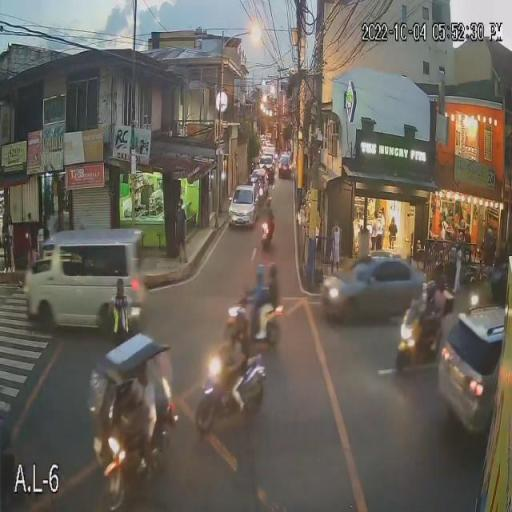helmet: (226, 306, 250, 334), (422, 279, 438, 300), (267, 261, 279, 278), (255, 263, 265, 277), (265, 196, 273, 207)
motorcycle: (192, 356, 267, 436), (252, 293, 285, 338), (261, 220, 275, 249)
rider: (395, 306, 441, 372), (226, 338, 252, 412), (258, 283, 280, 339), (248, 282, 262, 332), (421, 300, 436, 346), (261, 206, 276, 236)
